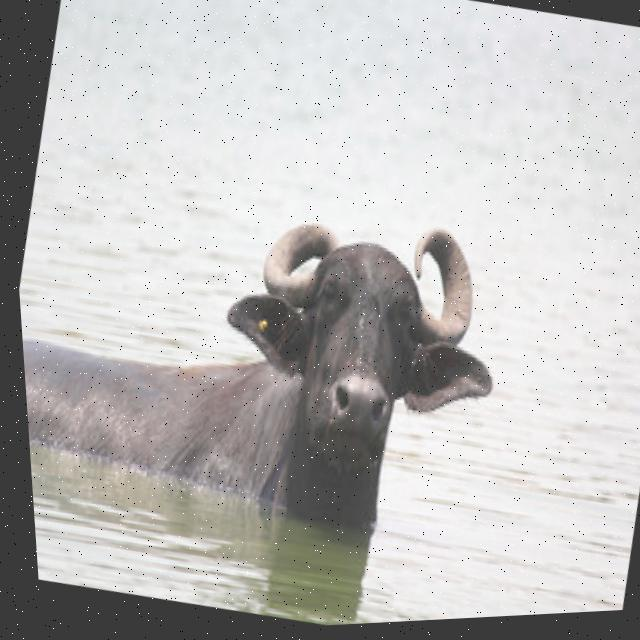Buffalo: (11, 132, 537, 579)
